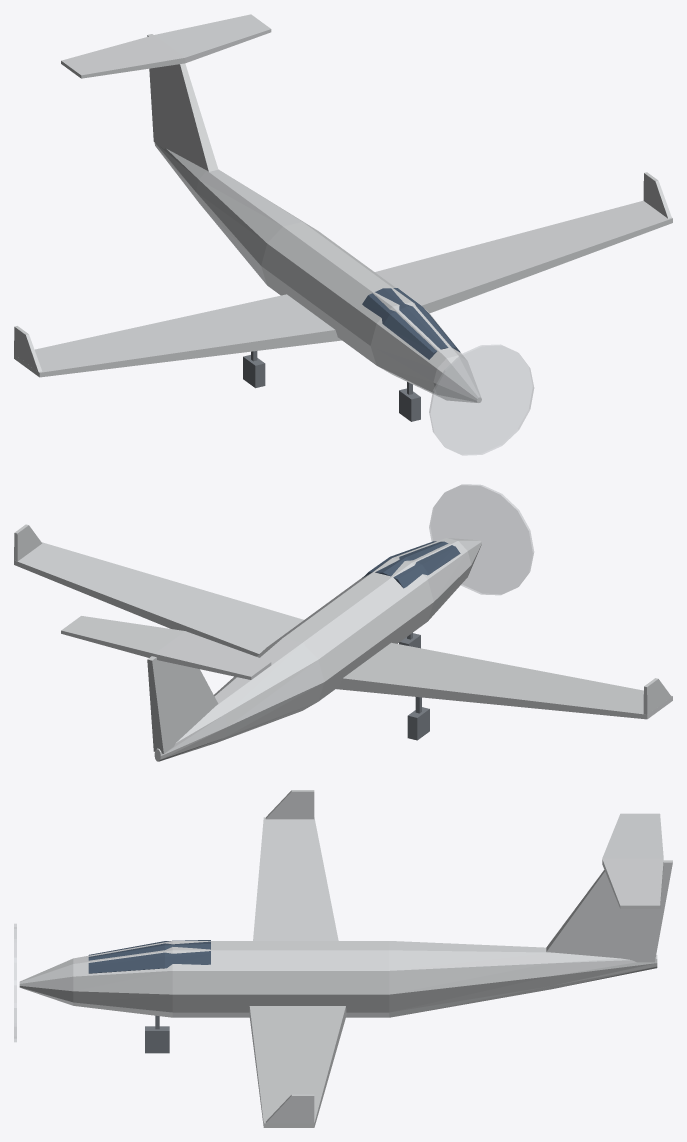
The model's file is turboprop-single.glb.
3 views of the same model, one above another, from view 1: azimuth 30°, elevation 25°; view 2: azimuth 150°, elevation 25°; view 3: azimuth 270°, elevation 25° (orthographic).
Parts seen in each view (by area): view 1: turboprop-single; view 2: turboprop-single; view 3: turboprop-single.
Boxes of the visible parts, x1,y1,x2,y2 form: turboprop-single: [14, 14, 672, 455]; turboprop-single: [14, 484, 672, 761]; turboprop-single: [14, 790, 672, 1127].
Bounding box in the file's own units: 1 × 0.293 × 0.9098.
